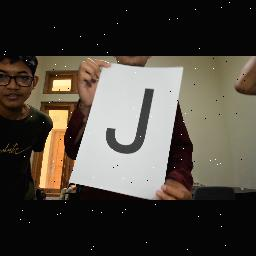j: (98, 80, 164, 168)
